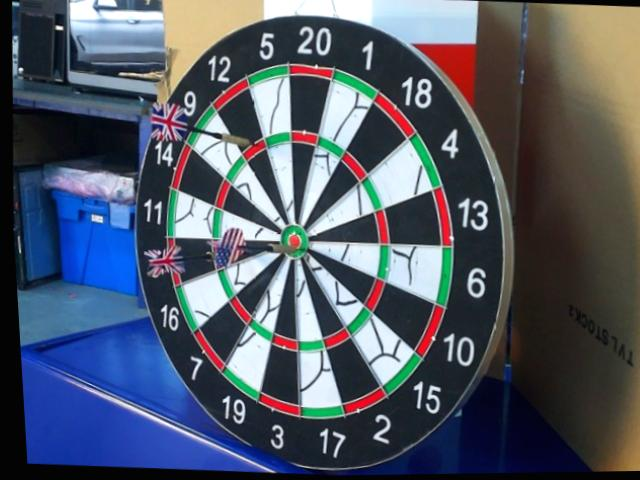bullseye: (279, 226, 309, 259)
triple_12: (243, 139, 265, 161)
